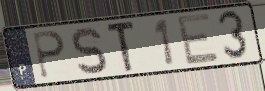1: (151, 16, 176, 68)
3: (216, 8, 251, 63)
E: (174, 11, 221, 68)
P: (31, 29, 67, 81)
S: (69, 25, 109, 77)
T: (105, 18, 137, 74)
